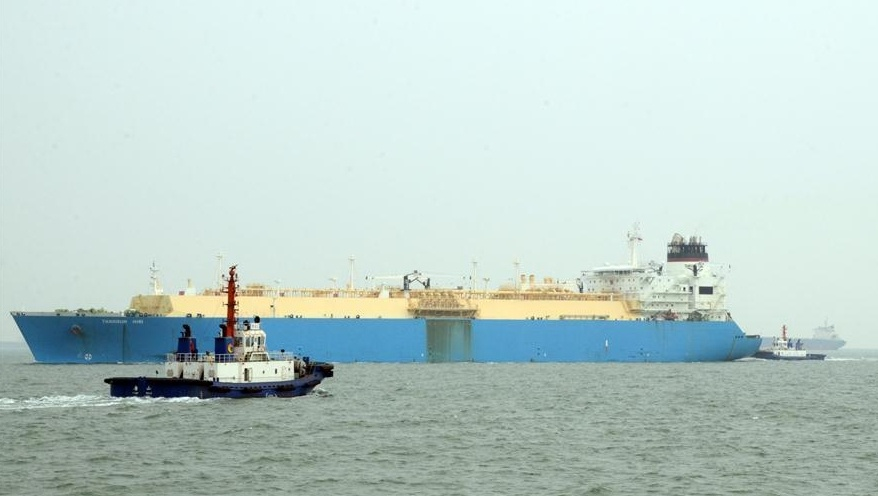Cargoship: (3, 218, 763, 362)
otherboat: (104, 257, 332, 403), (753, 324, 825, 361)
